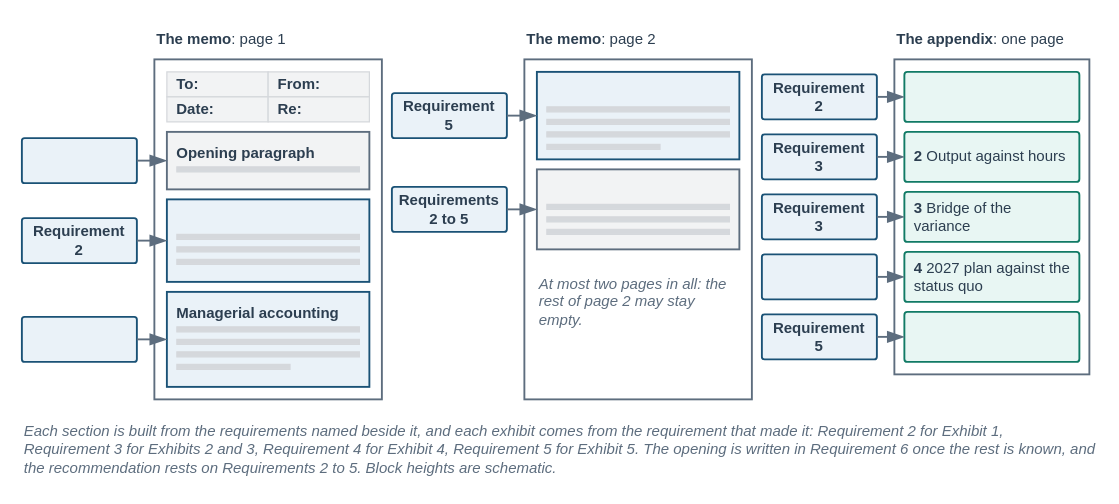
Some shapes in this 1119 by 504 pixel diagram are drawn without their labels. Each missing label, with the box of its shape:
1 Corroboration matrix: (903, 70, 1080, 122)
5 Proposed adjustments: (903, 310, 1080, 362)
Auditing: (165, 198, 370, 282)
Financial reporting: (535, 70, 740, 160)
Recommendation: (535, 168, 740, 250)
Requirement 4: (760, 253, 877, 300)
Requirement 6: (20, 137, 137, 184)
Requirements 3 and 4: (20, 315, 137, 362)
